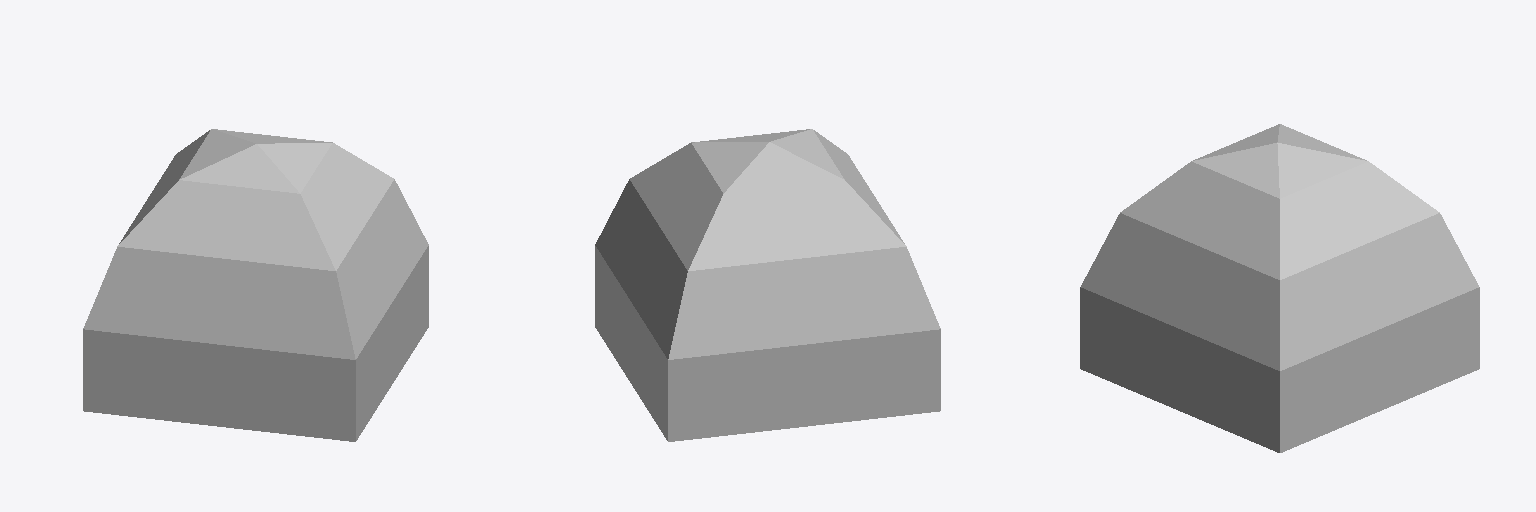
File: lamp.obj
3 views of the same model, side by side, from view 1: azimuth 30°, elevation 25°; view 2: azimuth 150°, elevation 25°; view 3: azimuth 270°, elevation 25° (orthographic).
Parts seen in each view (by area): view 1: Sphere; view 2: Sphere; view 3: Sphere.
Part boxes in pixels (bbox=[...]): Sphere: bbox=[83, 129, 428, 441]; Sphere: bbox=[595, 129, 940, 441]; Sphere: bbox=[1080, 124, 1479, 452].
Bounding box in the file's own units: 1.95 × 1.22 × 1.95.